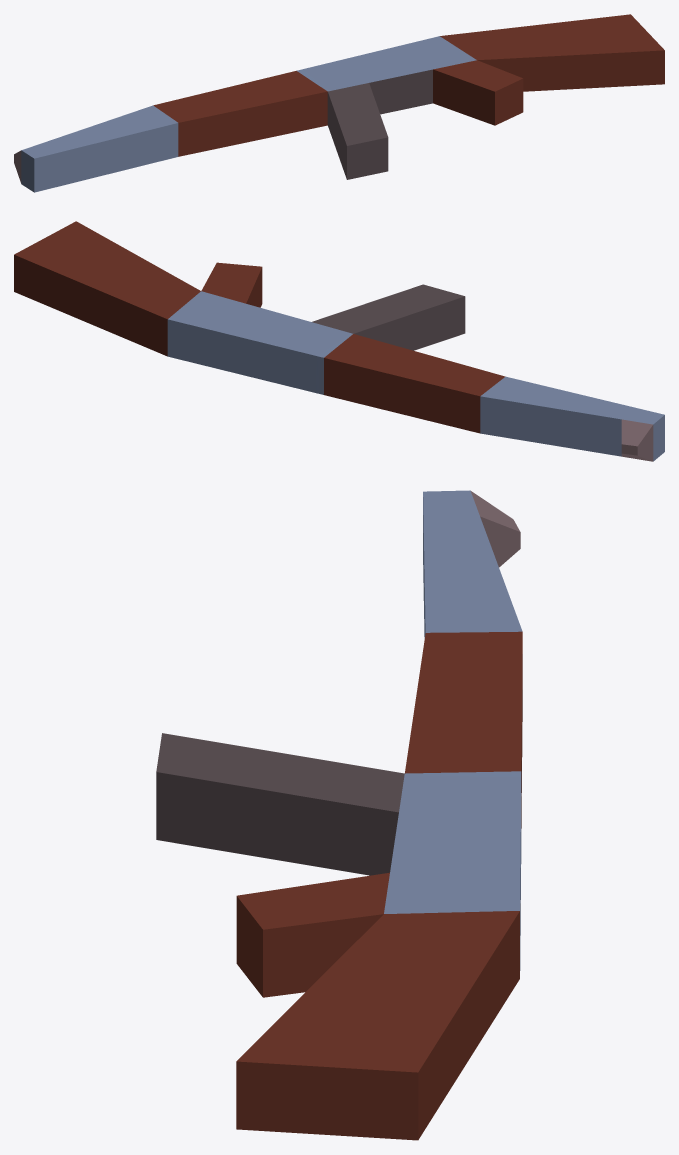
The model's file is Rifle model.glb.
The picture shows the model from 3 angles, top to bottom: view 1: azimuth 30°, elevation 25°; view 2: azimuth 150°, elevation 25°; view 3: azimuth 270°, elevation 25°; orthographic projection. The views are drawn at different scales.
Parts seen in each view (by area): view 1: Plane; view 2: Plane; view 3: Plane.
Boxes of the visible parts, x1=… form: Plane: x1=14, y1=14, x2=664, y2=192; Plane: x1=14, y1=221, x2=664, y2=461; Plane: x1=156, y1=490, x2=522, y2=1140.
Size of the model in its own units: 4.64 by 0.2526 by 1.23.
Materials: 1 (1 with a texture image).
